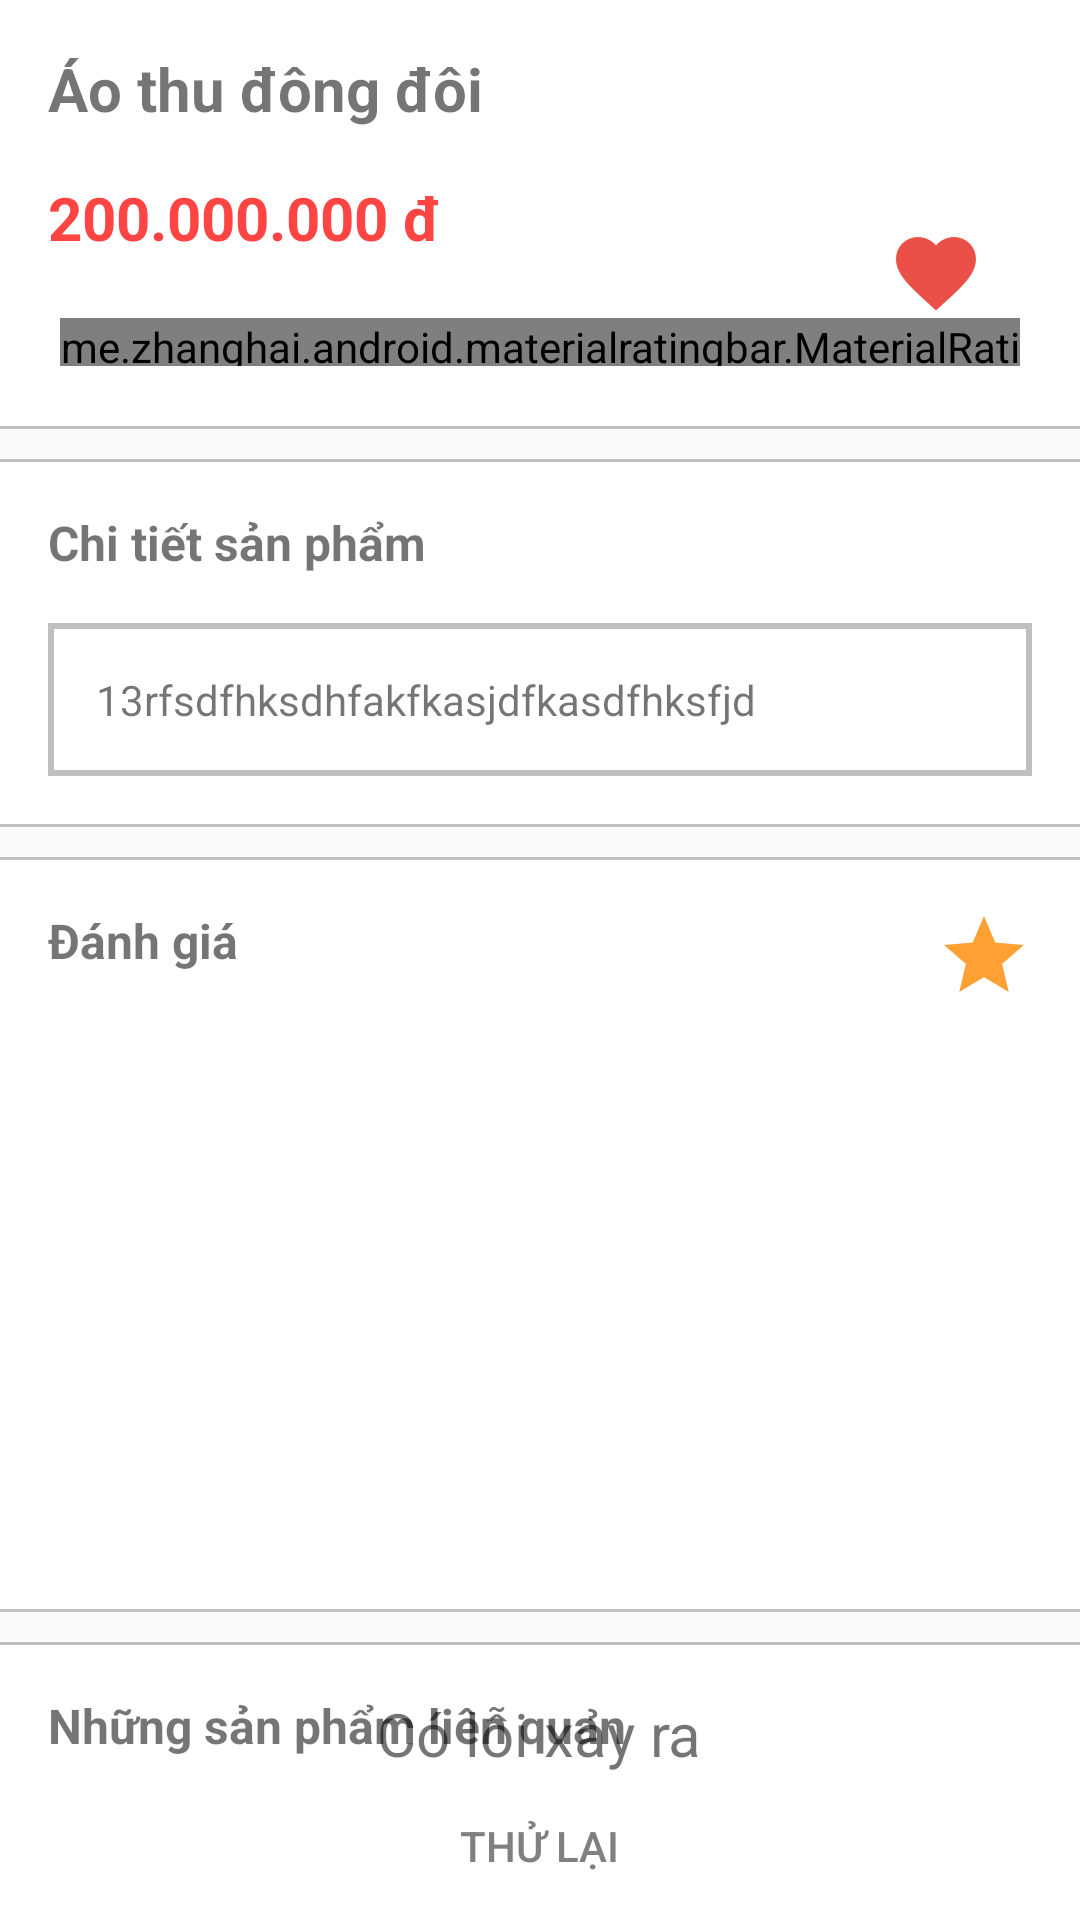

Named icons in this screenshot (1080px×1920px) and their bounding boxes, (x1,y1,x2,y2):
star: (944,916,1024,992)
